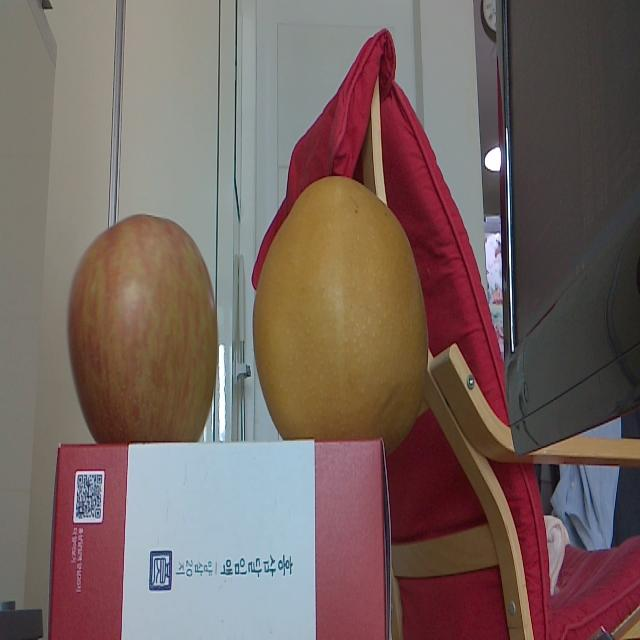apple: (67, 212, 218, 442)
pear: (254, 178, 427, 439)
